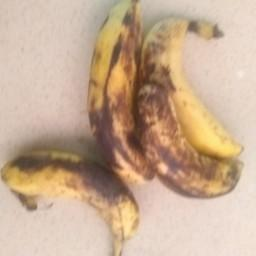Bad_banana: (68, 4, 254, 244), (146, 12, 242, 192), (2, 155, 139, 243)
